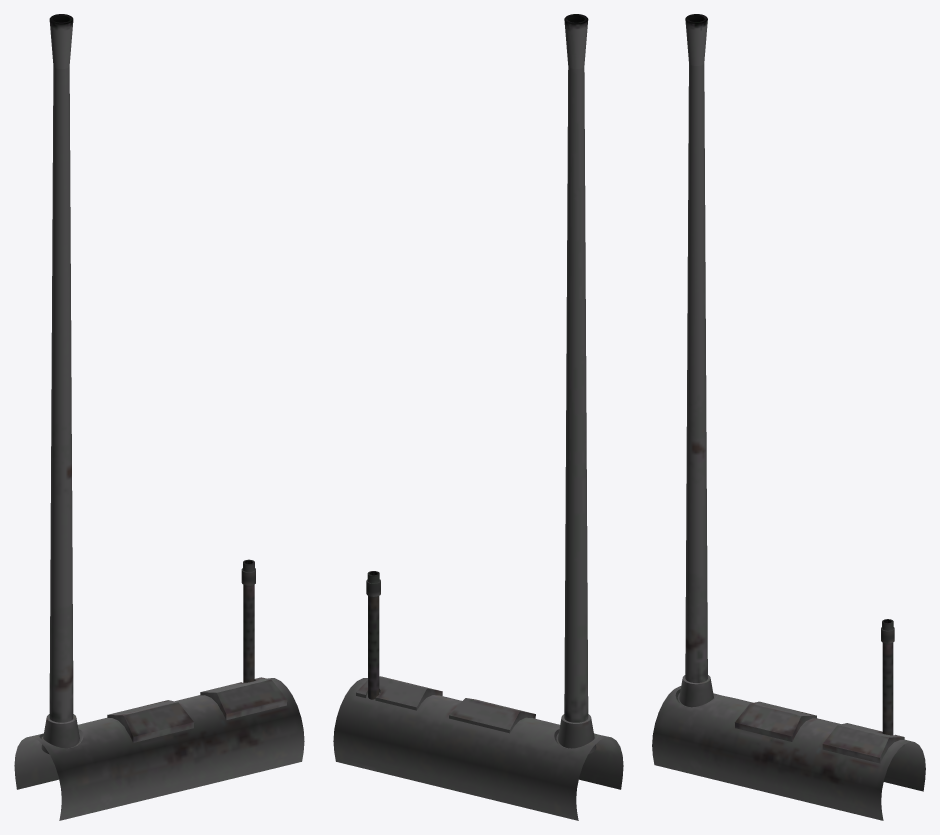
The model's file is Gun_02.glb.
The picture shows the model from 3 angles, left to right: view 1: azimuth 30°, elevation 25°; view 2: azimuth 150°, elevation 25°; view 3: azimuth 330°, elevation 25°; orthographic projection. The views are drawn at different scales.
Parts seen in each view (by area): view 1: set_0_group_0; view 2: set_0_group_0; view 3: set_0_group_0.
Part boxes in pixels (bbox=[...]): set_0_group_0: bbox=[14, 14, 304, 820]; set_0_group_0: bbox=[333, 14, 623, 820]; set_0_group_0: bbox=[652, 14, 925, 820].
Size of the model in its own units: 0.7421 by 2.28 by 0.2509.
Materials: 1 (1 with a texture image).
